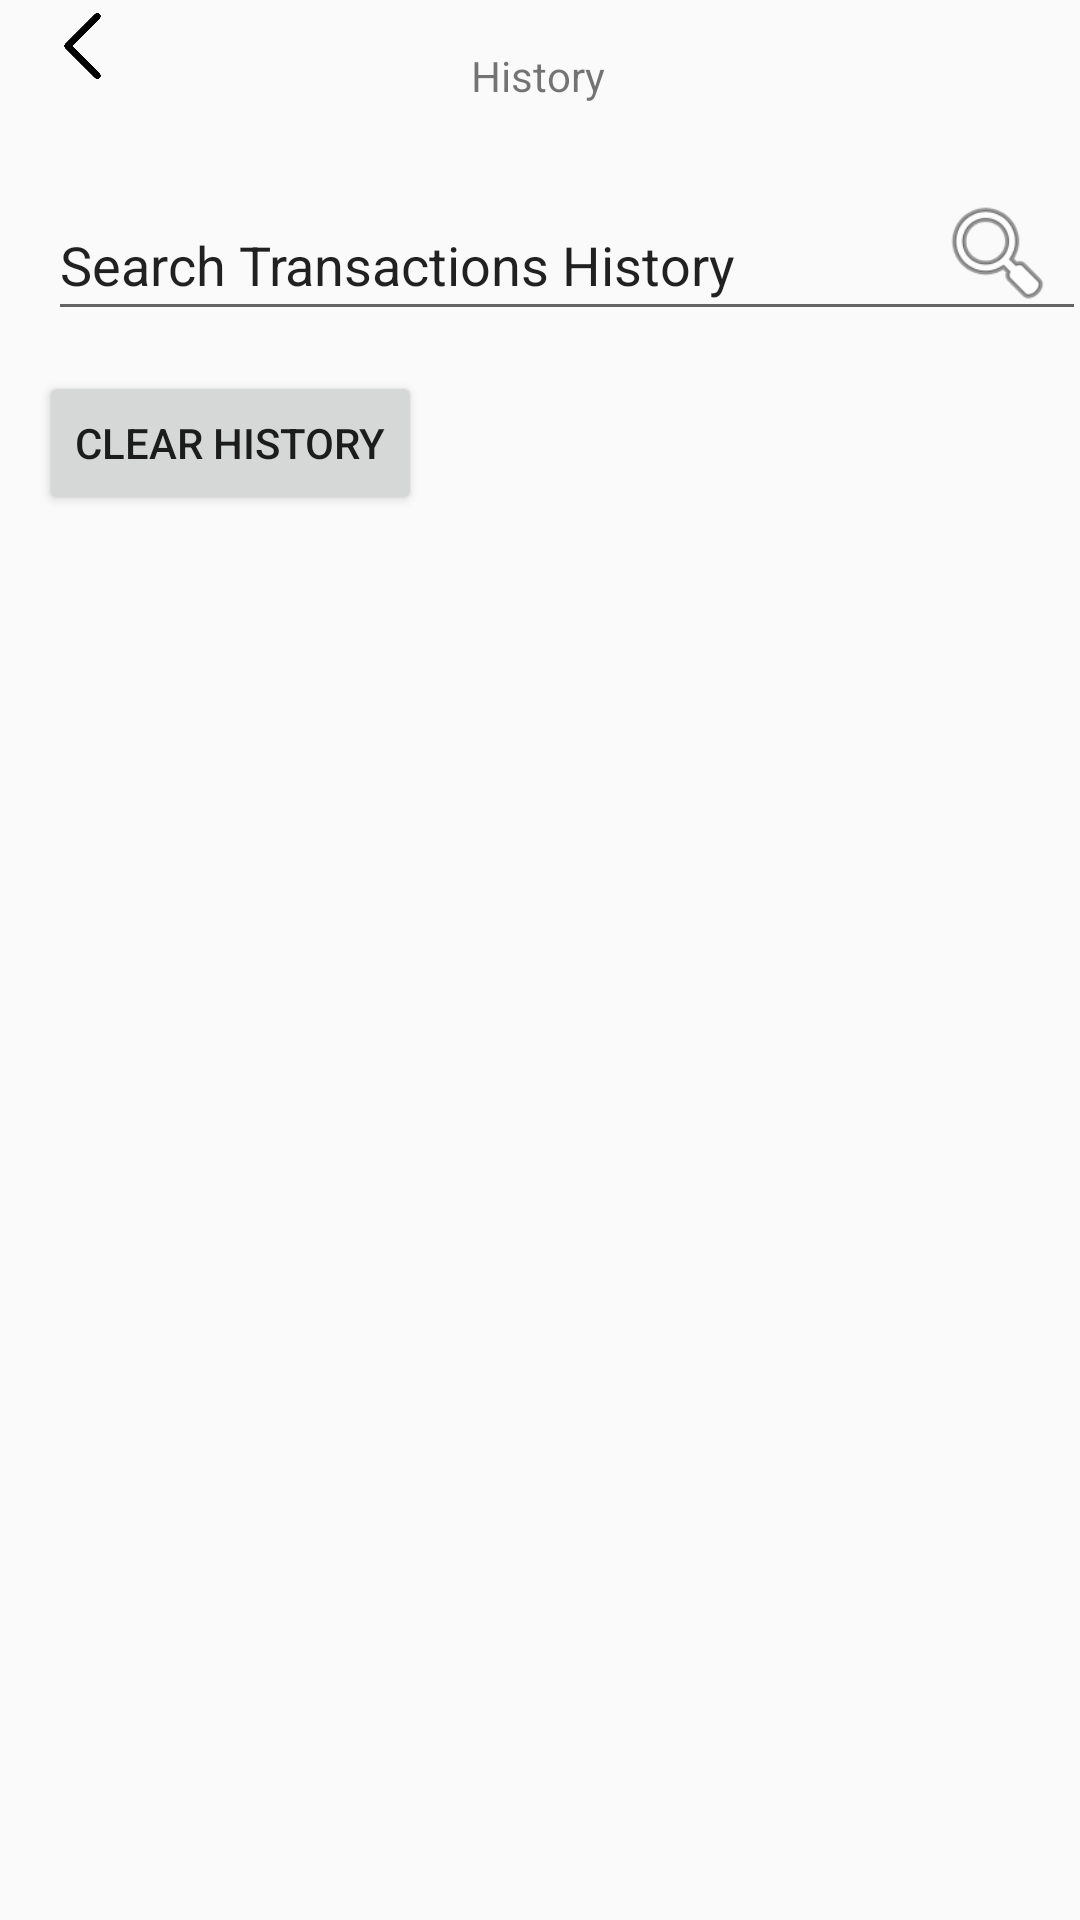

Where icons sit on this 1080*1920 app screen, as (x1,y1,x2,y2):
back: (64,13,101,79)
